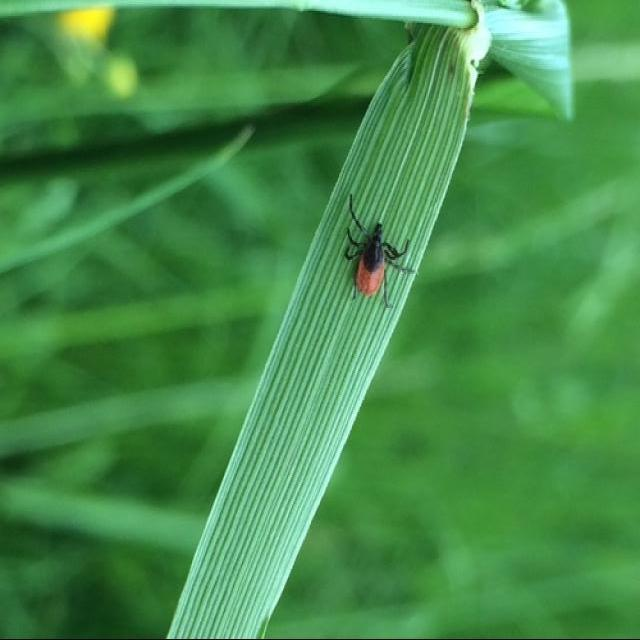Ixodes Ricinus-F: (334, 195, 407, 302)
